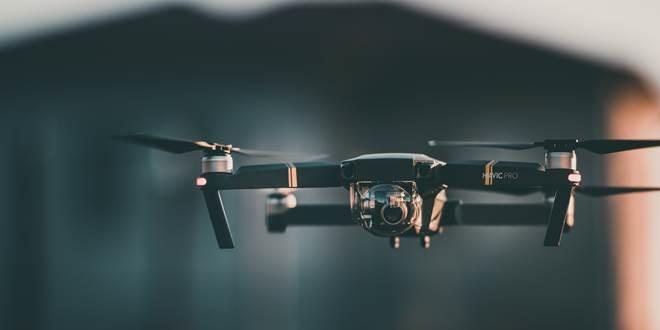drone: (137, 118, 639, 253)
